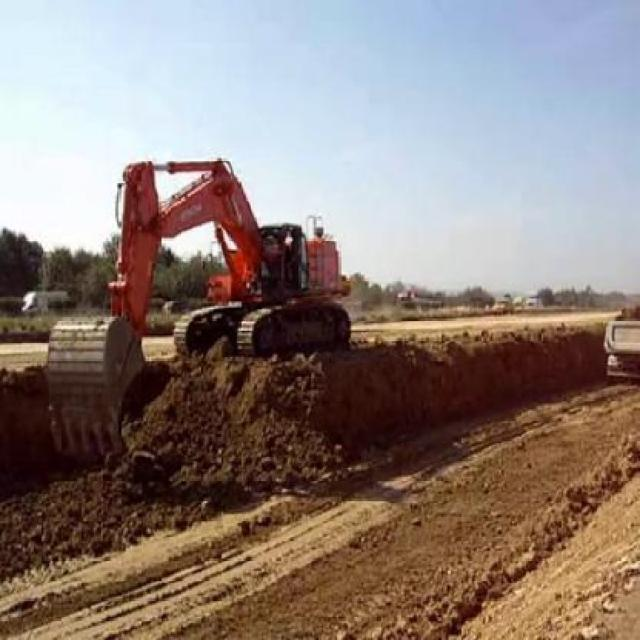excavator: (43, 156, 351, 453)
